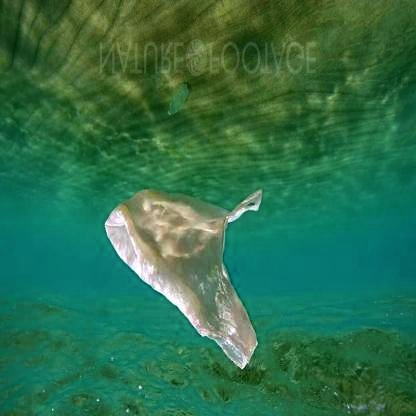pbag: (99, 174, 266, 368)
